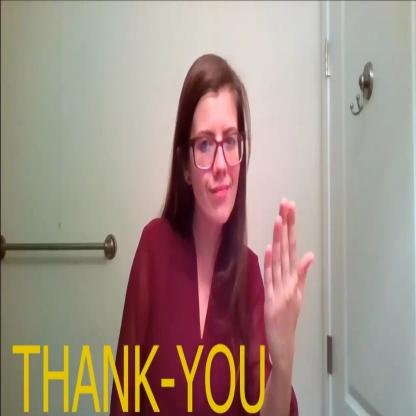ThankYou: (177, 46, 316, 374)
